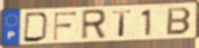1: (139, 8, 154, 37)
B: (165, 6, 194, 36)
D: (22, 11, 51, 43)
F: (52, 11, 78, 41)
R: (80, 8, 108, 42)
T: (112, 9, 134, 38)
